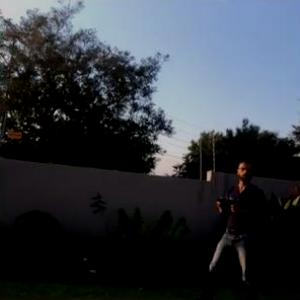follow: (192, 146, 270, 299)
